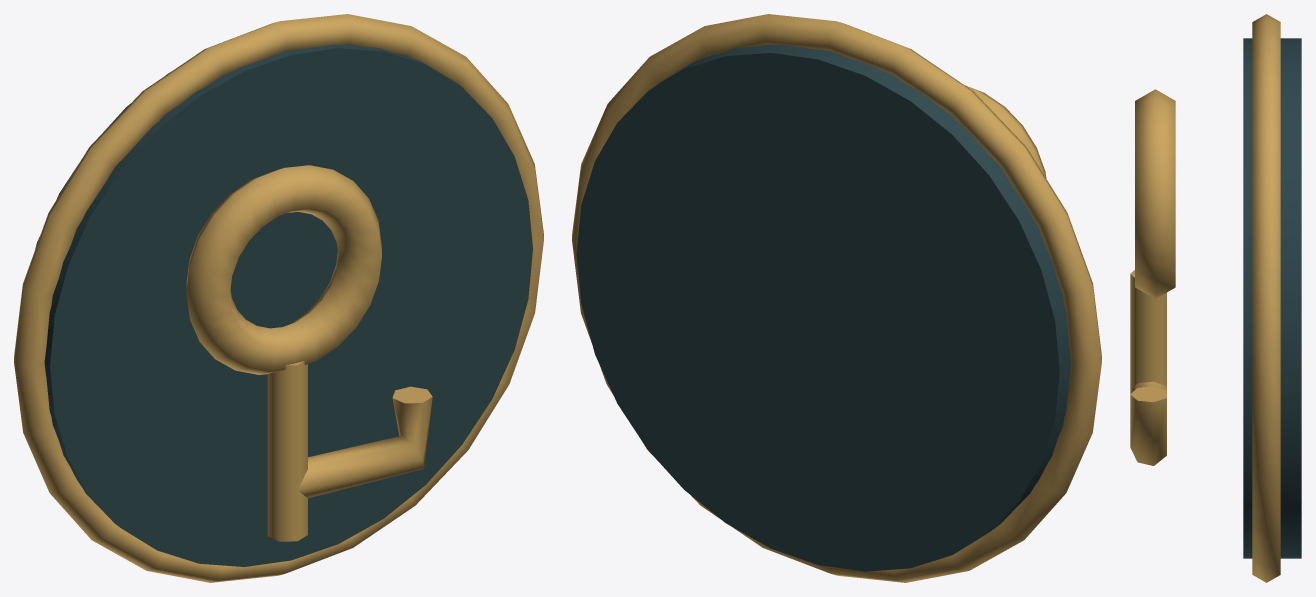
File: key.fbx
3 views of the same model, side by side, from view 1: azimuth 30°, elevation 25°; view 2: azimuth 150°, elevation 25°; view 3: azimuth 270°, elevation 25° (orthographic). The views are drawn at different scales.
Parts seen in each view (by area): view 1: key; view 2: key; view 3: key.
Boxes of the visible parts, left/top/right/bottom form: key: left=14, top=14, right=543, bottom=582; key: left=572, top=14, right=1101, bottom=582; key: left=1130, top=14, right=1301, bottom=582.
Size of the model in its own units: 0.976 by 0.976 by 0.293.
